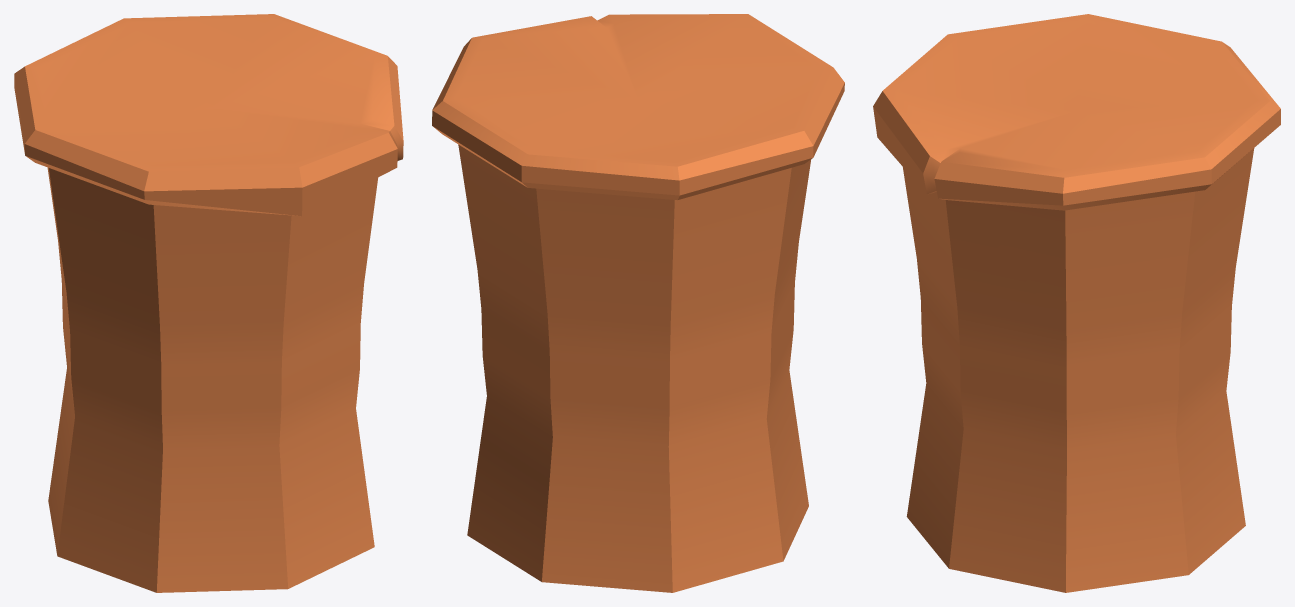
Rendered from BridgePole.fbx.
The picture shows the model from 3 angles, left to right: view 1: azimuth 30°, elevation 25°; view 2: azimuth 150°, elevation 25°; view 3: azimuth 270°, elevation 25°; orthographic projection. The views are drawn at different scales.
Visible parts, largest first — view 1: Bridge_pole; view 2: Bridge_pole; view 3: Bridge_pole.
Boxes of the visible parts, x1,y1,x2,y2 form: Bridge_pole: (14, 14, 403, 592); Bridge_pole: (432, 14, 844, 592); Bridge_pole: (873, 14, 1280, 592).
Bounding box in the file's own units: 271 × 312 × 270.
